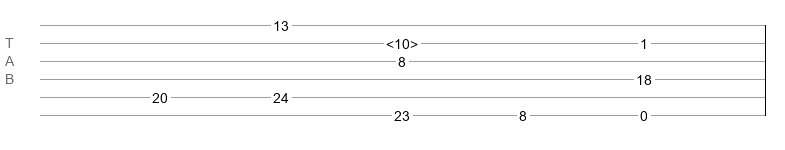0: (640, 108, 648, 118)
1: (640, 36, 648, 46)
13: (273, 18, 289, 28)
18: (636, 72, 652, 82)
20: (152, 90, 168, 100)
23: (394, 108, 410, 118)
24: (273, 90, 289, 100)
8: (398, 54, 406, 64), (519, 108, 527, 118)
harmonic: (386, 36, 418, 46)
